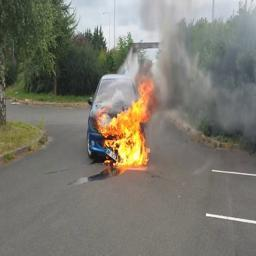fire: (95, 79, 154, 170)
